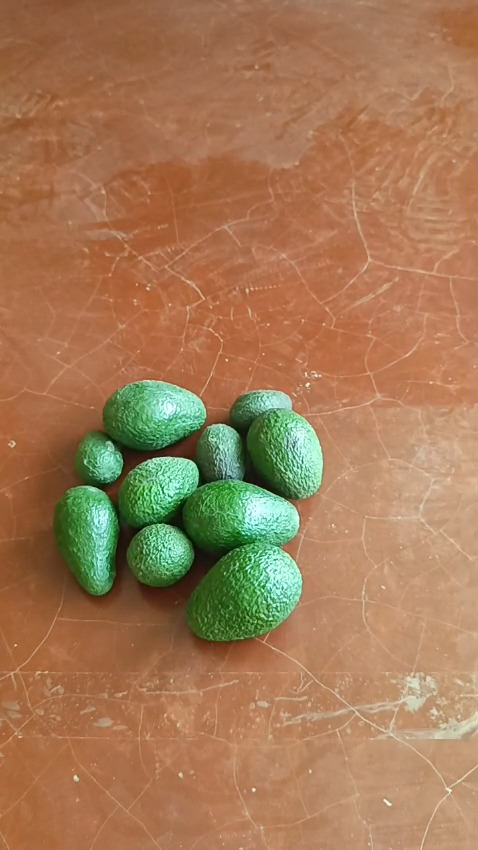Primera: (186, 543, 302, 640), (182, 479, 299, 554), (101, 379, 207, 450), (246, 409, 323, 498)
Segunda: (52, 484, 120, 595), (117, 457, 201, 528)
Tercera: (125, 522, 196, 587), (72, 429, 125, 487), (195, 423, 246, 483), (229, 389, 294, 432)
